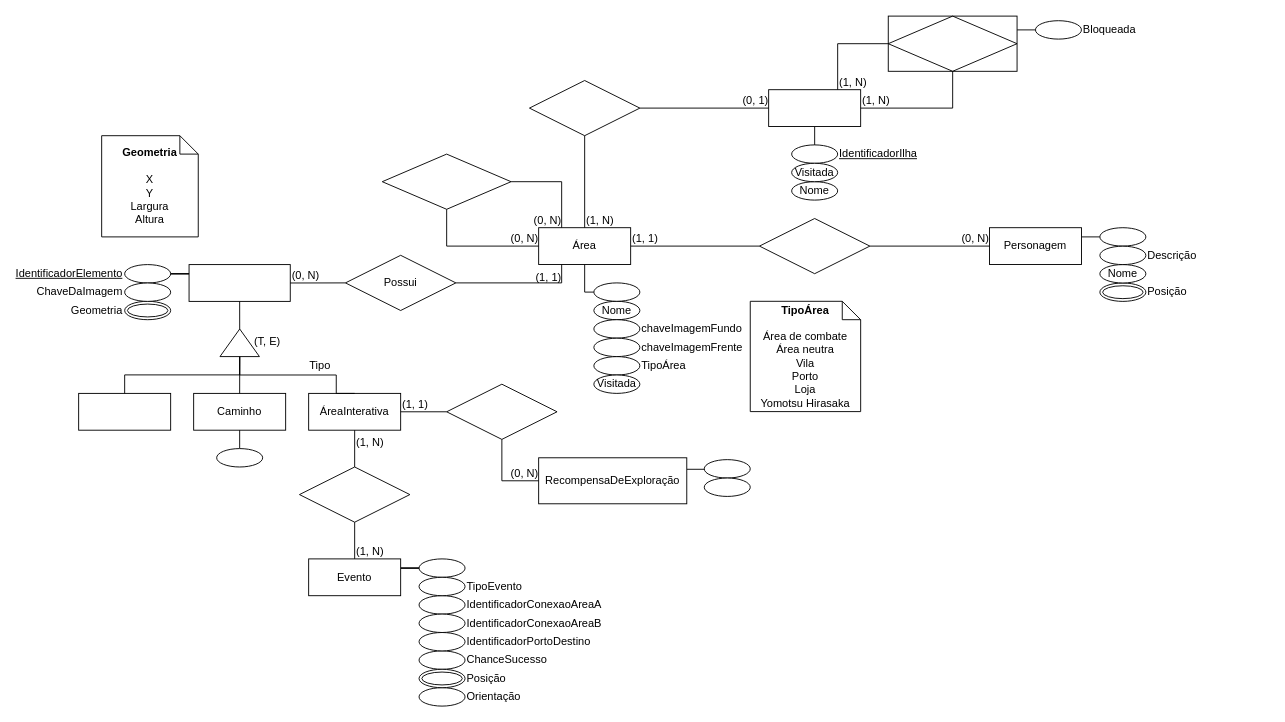
This 1285x722 diagram has some shape labels left out. Each missing label, with the centre of its shape:
"Aciona" belongs at point (354, 494).
"ConexaoEntreAreas" belongs at point (446, 181).
"ConexaoEntreIlhas" belongs at point (952, 43).
"DataDaTentativa" belongs at point (726, 486).
"ElementoEspacial" belongs at point (239, 282).
"Está" belongs at point (814, 246).
"Está localizada" belongs at point (584, 108).
"Gera" belongs at point (501, 411).
"IdentificadorEvento" belongs at point (441, 567).
"IdentificadorPersonagem" belongs at point (1122, 236).
"IdentificadorRecompensa" belongs at point (726, 468).
"IdentificadorÁrea" belongs at point (616, 291).
"Ilha" belongs at point (814, 107).
"Obstáculo" belongs at point (124, 411).
"TipoTerreno" belongs at point (239, 457).
